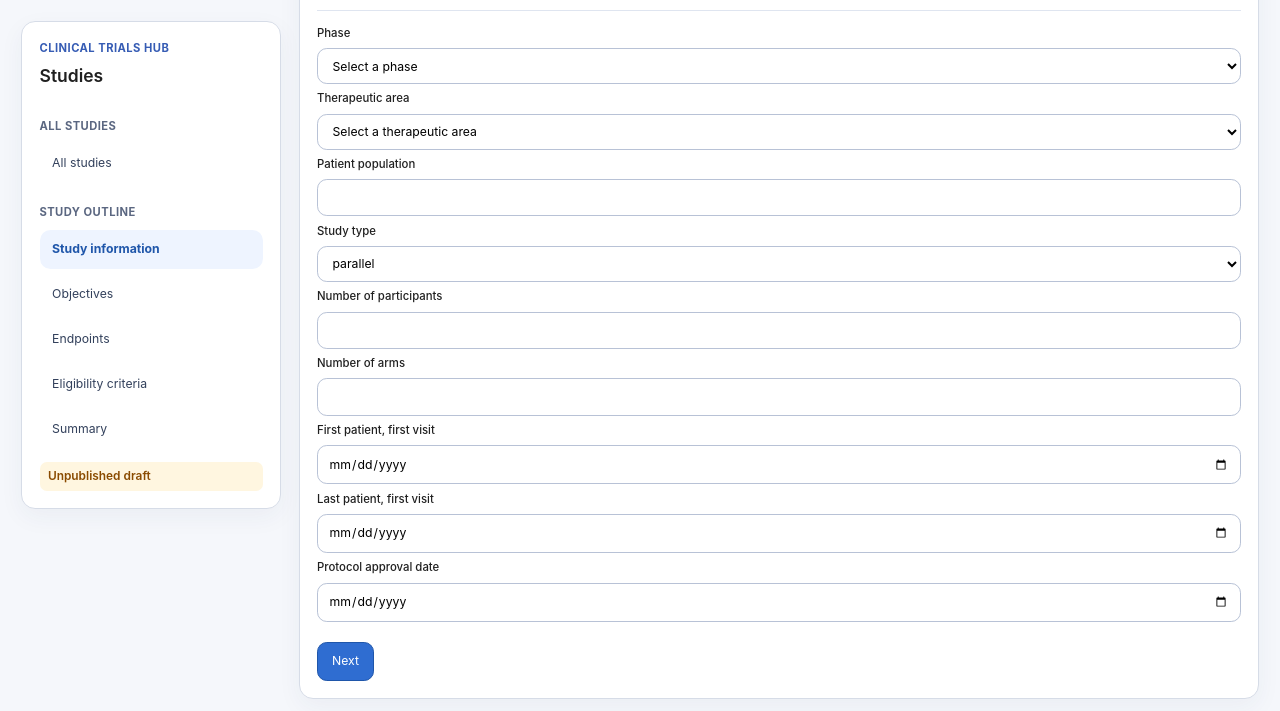
Test: New study wizard › blocks advancement and shows inline errors when the Study information form is invalid
(page scrolled)
Click the button with test id "section-next-button": (346, 662) [317,642,374,681]
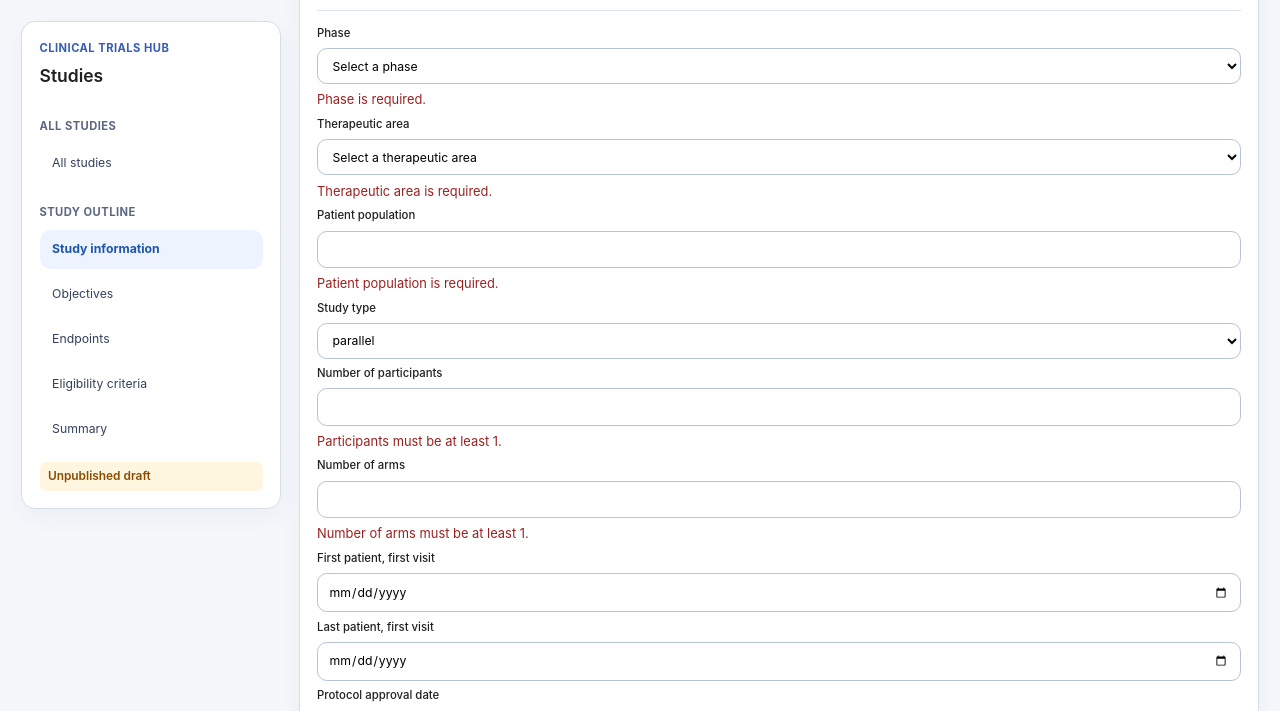
Check: the text "Phase is required." is shown, box [317,92,426,108]
Check: the text "Therapeutic area is required." is shown, box [317,184,492,198]
Check: the text "Patient population is required." is shown, box [317,276,498,291]
